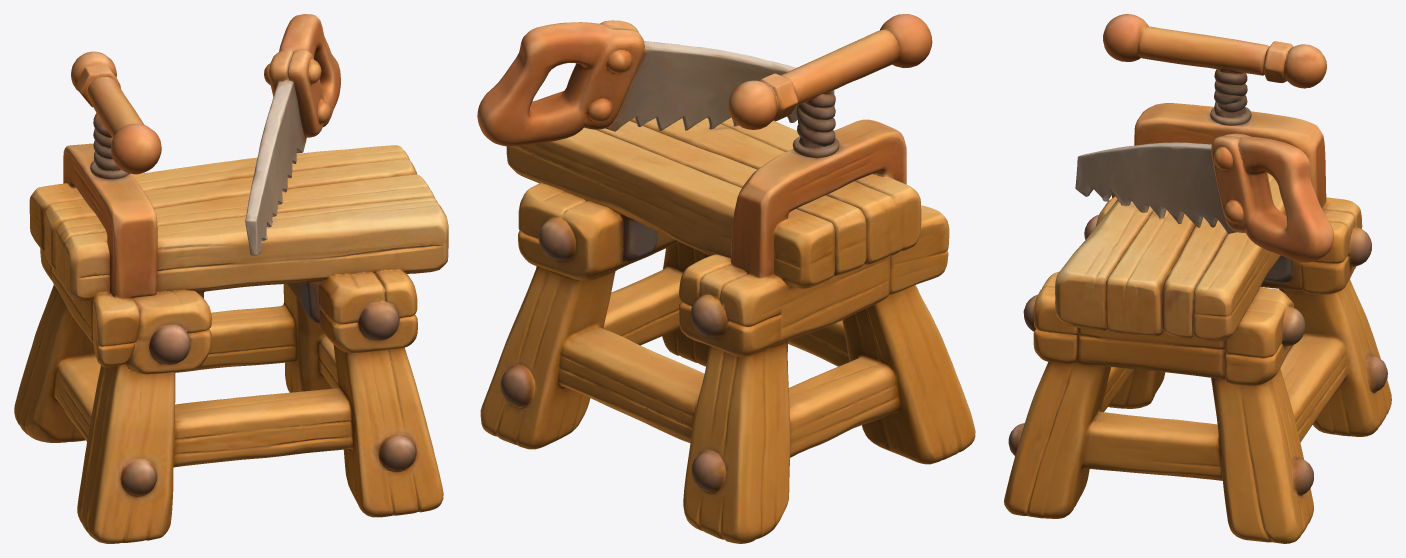
Rendered from ban-cua.glb.
The picture shows the model from 3 angles, left to right: view 1: azimuth 30°, elevation 25°; view 2: azimuth 150°, elevation 25°; view 3: azimuth 270°, elevation 25°; orthographic projection. The views are drawn at different scales.
Bounding box in the file's own units: 0.2646 × 0.271 × 0.2468.
1 material, 1 textured.
